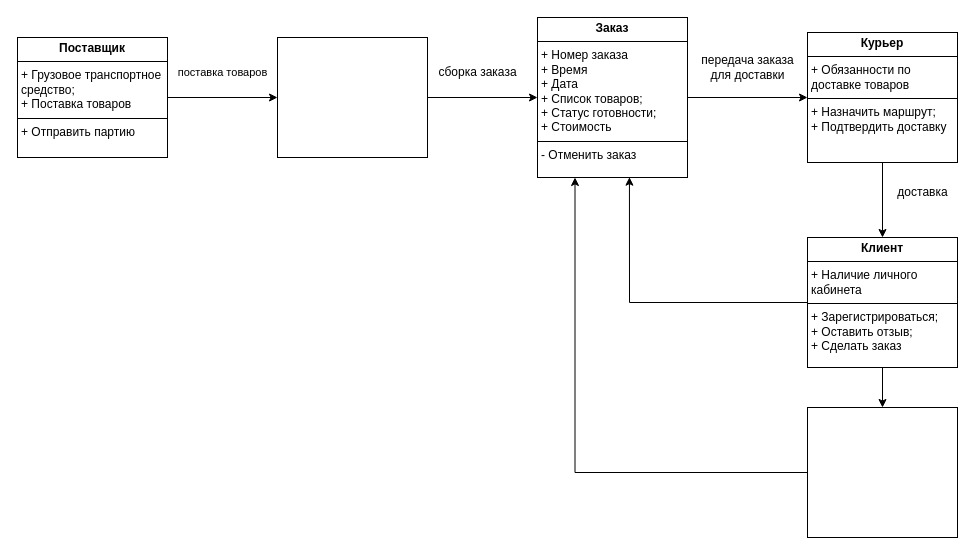
The diagram is 975 pixels wide and 555 high, and some of its shapes have lost their labels. Each missing label, with the centre of its shape:
"Персональные данные + ФИО; + Адрес; + Номер телефона + Запросить изменения" goes at (x=882, y=472).
"Склад +Вместимость + Инвентаризация; + Прием товара; - Списание товара" goes at (x=352, y=97).
